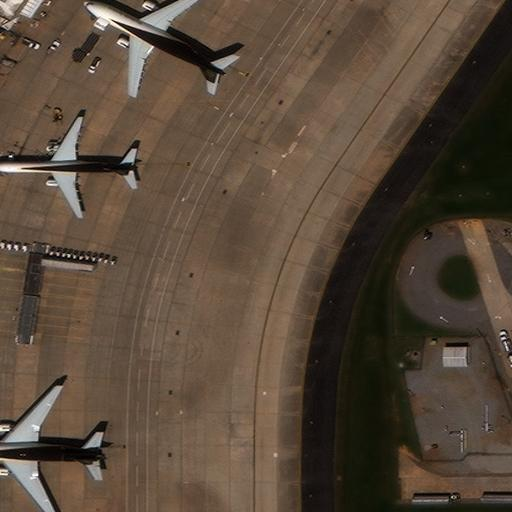Large Civil Transport: (81, 0, 228, 97), (0, 116, 139, 218), (0, 386, 111, 512)
